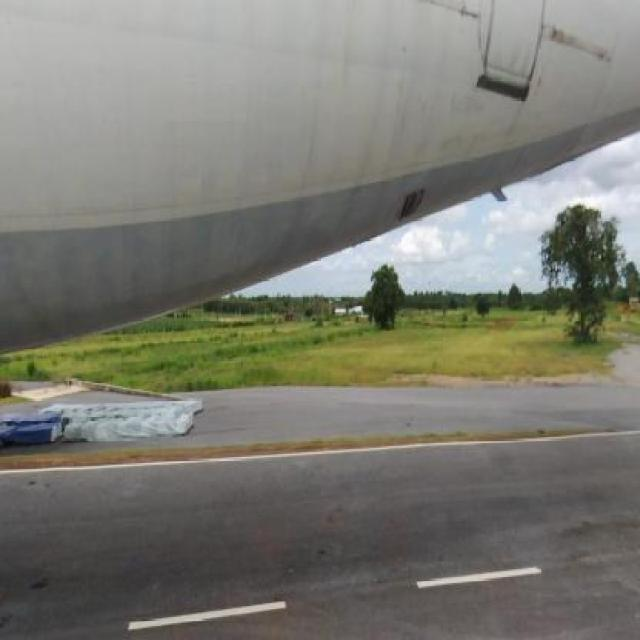Rust: (543, 14, 622, 80), (500, 29, 534, 89)
Scartch: (446, 1, 480, 39)
